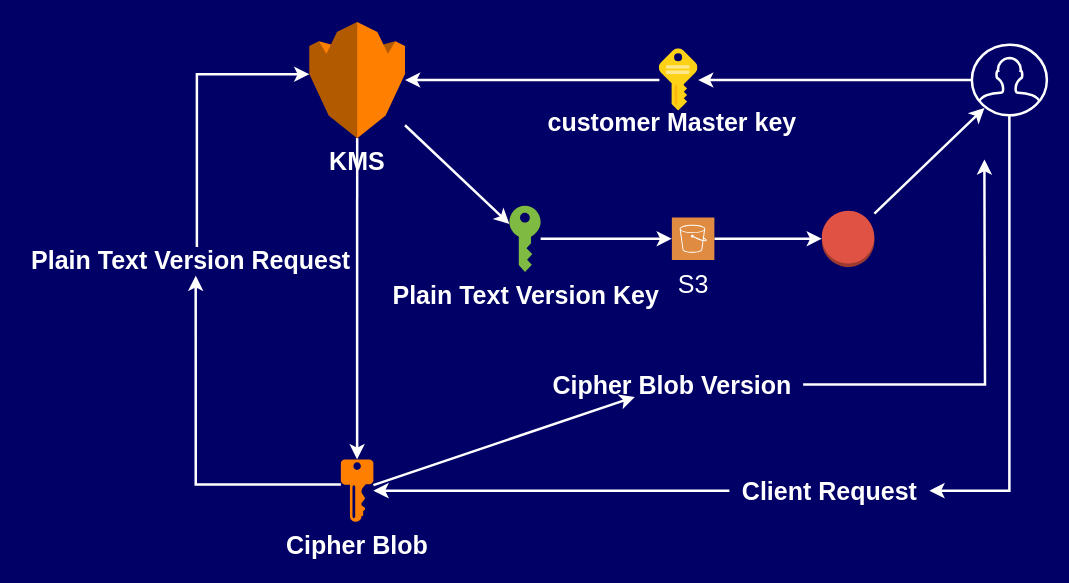
Some shapes in this 1069 by 583 pixel diagram are drawn without their labels. Each missing label, with the box of its shape:
Client: (970, 43, 1048, 116)
Decreypt Object: (816, 205, 879, 271)
